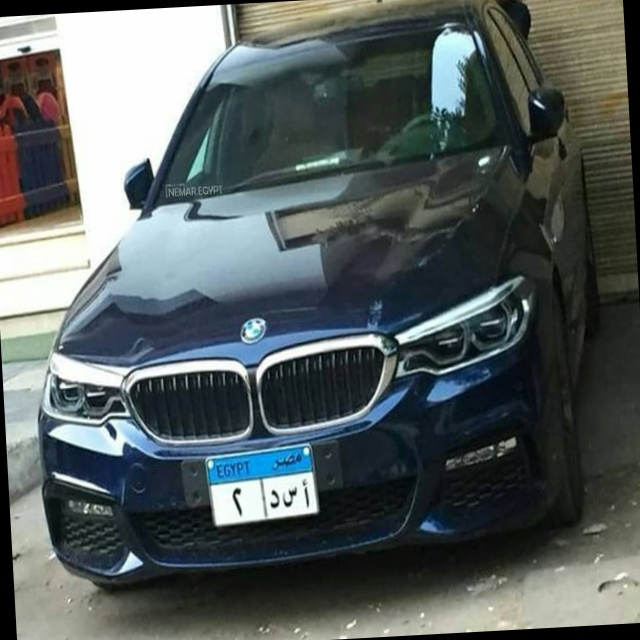License Plate: (203, 440, 322, 532)
